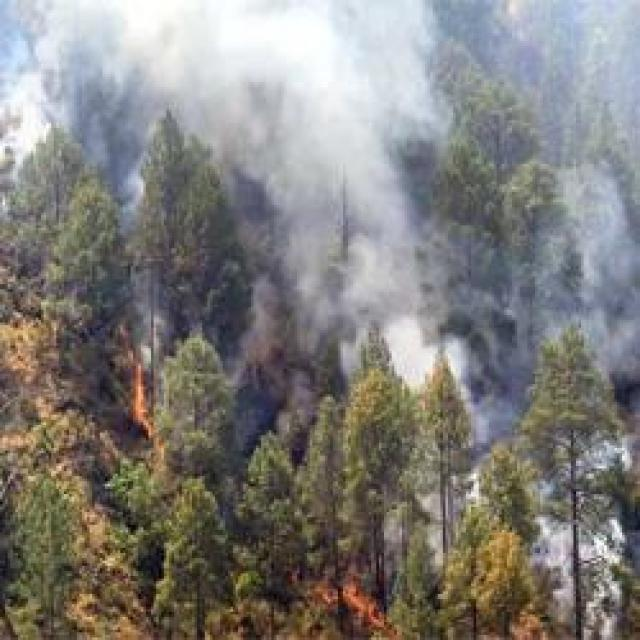fire: (123, 354, 170, 471), (319, 570, 400, 636)
